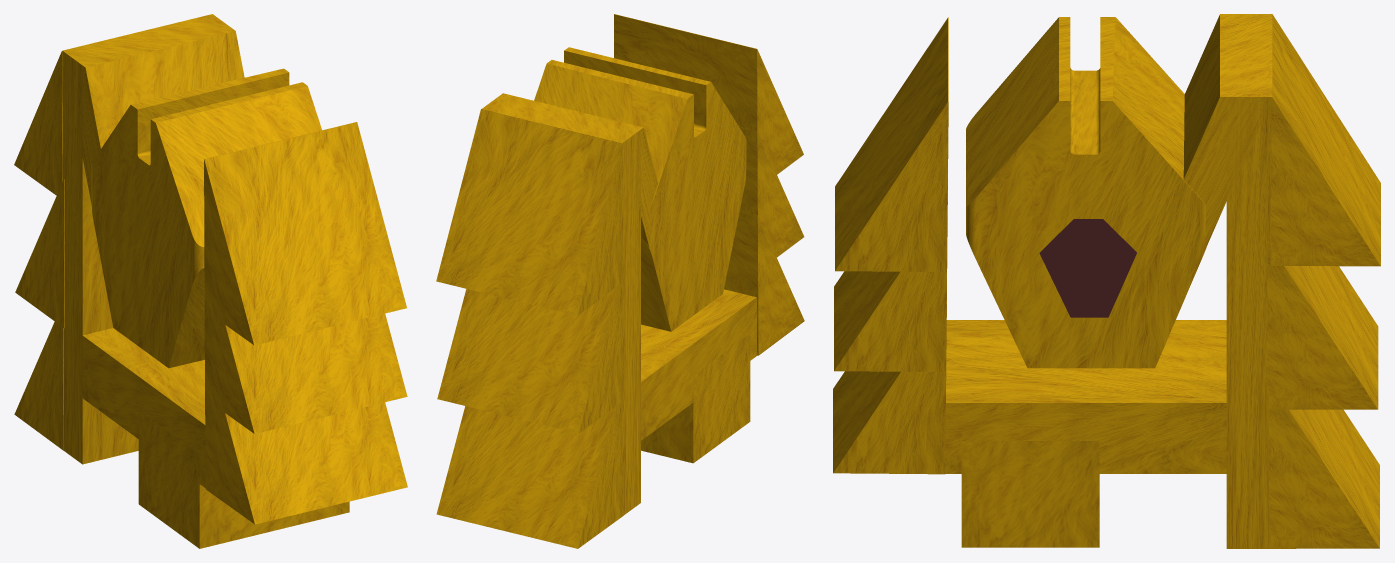
The model's file is asset2.gltf.
3 views of the same model, side by side, from view 1: azimuth 30°, elevation 25°; view 2: azimuth 150°, elevation 25°; view 3: azimuth 270°, elevation 25° (orthographic). The views are drawn at different scales.
Parts seen in each view (by area): view 1: Merged Objects 5, Box - baked, Merged Objects 3, Merged Objects 4, Box 2 - baked, Box, Box 1, Box 4, Merged Objects 1, Merged Objects 2, Merged Objects; view 2: Merged Objects 2, Box - baked, Merged Objects 1, Merged Objects, Merged Objects 5, Box 1, Box 4, Box, Merged Objects 3, Box 2 - baked, Merged Objects 4; view 3: Box - baked, Box 1, Box, Merged Objects 5, Merged Objects 2, Merged Objects 1, Box 4, Merged Objects, Box 2 - baked, Merged Objects 3, Merged Objects 4, Box 5 - baked.
Part boxes in pixels (x1=…): Merged Objects 5: x1=204, y1=122, x2=406, y2=345; Box - baked: x1=91, y1=68, x2=321, y2=368; Merged Objects 3: x1=204, y1=338, x2=407, y2=524; Merged Objects 4: x1=204, y1=248, x2=407, y2=433; Box 2 - baked: x1=62, y1=14, x2=244, y2=204; Box: x1=62, y1=51, x2=138, y2=464; Box 1: x1=82, y1=328, x2=205, y2=487; Box 4: x1=138, y1=410, x2=349, y2=548; Merged Objects 1: x1=15, y1=179, x2=64, y2=328; Merged Objects 2: x1=14, y1=51, x2=62, y2=196; Merged Objects: x1=14, y1=303, x2=63, y2=450; Merged Objects 2: x1=436, y1=109, x2=623, y2=315; Box - baked: x1=534, y1=47, x2=746, y2=331; Merged Objects 1: x1=437, y1=261, x2=624, y2=433; Merged Objects: x1=436, y1=400, x2=623, y2=548; Merged Objects 5: x1=614, y1=14, x2=803, y2=174; Box 1: x1=641, y1=289, x2=757, y2=440; Box 4: x1=641, y1=334, x2=750, y2=463; Box: x1=622, y1=131, x2=640, y2=515; Merged Objects 3: x1=724, y1=211, x2=804, y2=355; Box 2 - baked: x1=481, y1=93, x2=658, y2=247; Merged Objects 4: x1=739, y1=127, x2=804, y2=257; Box - baked: x1=966, y1=17, x2=1206, y2=368; Box 1: x1=945, y1=320, x2=1226, y2=473; Box: x1=1226, y1=97, x2=1271, y2=548; Merged Objects 5: x1=835, y1=17, x2=948, y2=271; Merged Objects 2: x1=1270, y1=14, x2=1380, y2=266; Merged Objects 1: x1=1267, y1=241, x2=1378, y2=409; Box 4: x1=961, y1=441, x2=1099, y2=547; Merged Objects: x1=1269, y1=382, x2=1379, y2=548; Box 2 - baked: x1=1183, y1=14, x2=1272, y2=248; Merged Objects 3: x1=833, y1=300, x2=946, y2=474; Merged Objects 4: x1=834, y1=191, x2=947, y2=371; Box 5 - baked: x1=1039, y1=219, x2=1136, y2=317.
Size of the model in its own units: 0.0306 by 0.0762 by 0.0837.
12 materials, 11 textured.
